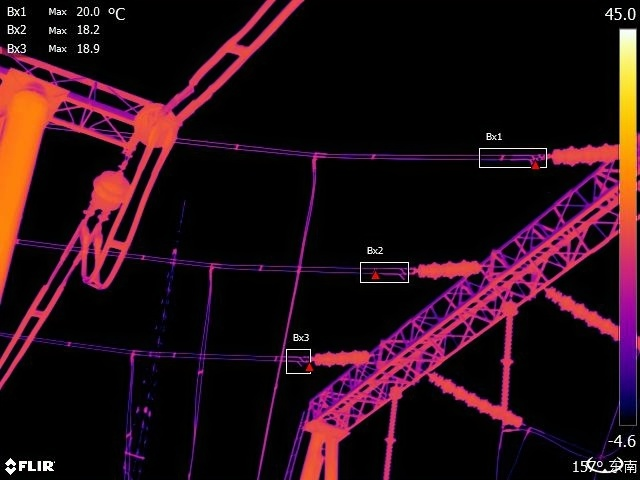clamp: (201, 254, 222, 286), (305, 142, 327, 168), (120, 345, 142, 370)
insulator: (546, 277, 640, 355), (431, 373, 523, 429), (495, 308, 519, 419), (380, 386, 403, 480), (415, 256, 484, 284), (552, 140, 618, 165), (312, 348, 371, 370)
